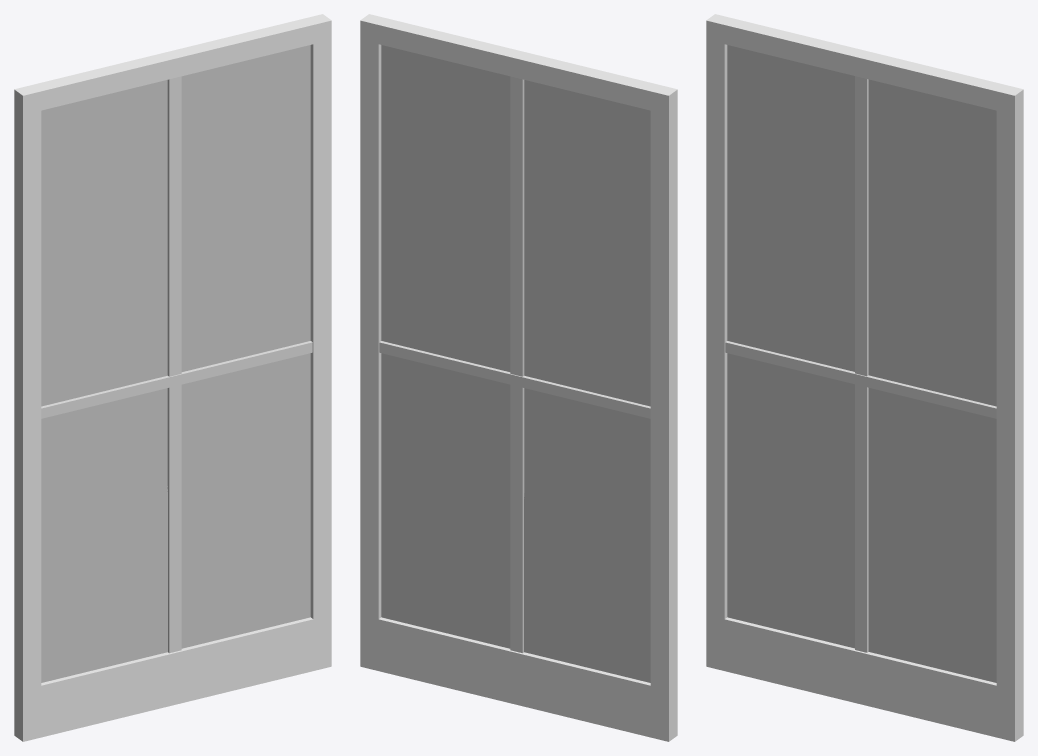
File: wall_019.fbx
The picture shows the model from 3 angles, left to right: view 1: azimuth 30°, elevation 25°; view 2: azimuth 150°, elevation 25°; view 3: azimuth 330°, elevation 25°; orthographic projection.
Parts seen in each view (by area): view 1: wall_019; view 2: wall_019; view 3: wall_019.
Part boxes in pixels (x1=…): wall_019: x1=14, y1=14, x2=331, y2=741; wall_019: x1=360, y1=14, x2=677, y2=741; wall_019: x1=706, y1=14, x2=1023, y2=741.
Bounding box in the file's own units: 200 × 10 × 400.
